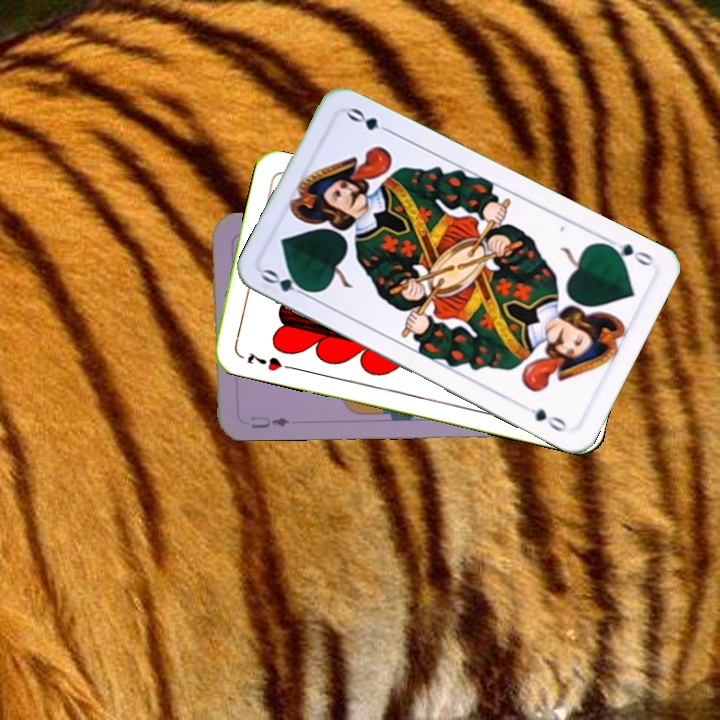EU: (247, 412, 291, 431)
GO: (257, 265, 316, 301), (599, 233, 657, 269)
H7: (243, 348, 285, 374)
